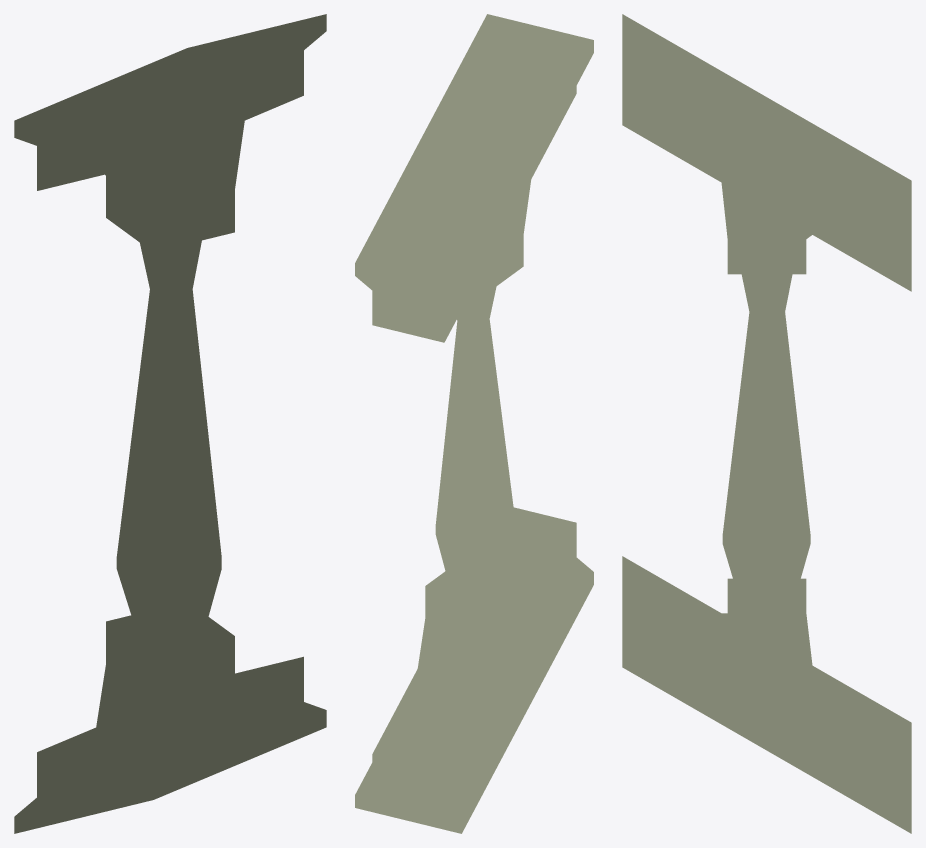
File: railing_slope.dae
3 views of the same model, side by side, from view 1: azimuth 30°, elevation 25°; view 2: azimuth 150°, elevation 25°; view 3: azimuth 270°, elevation 25° (orthographic). The views are drawn at different scales.
Visible parts, largest first — view 1: cube2-0; view 2: cube2-0; view 3: cube2-0.
Boxes of the visible parts, x1=… form: cube2-0: x1=14, y1=14, x2=326, y2=833; cube2-0: x1=355, y1=14, x2=593, y2=833; cube2-0: x1=622, y1=14, x2=911, y2=833.
Size of the model in its own units: 0.1466 by 0.9163 by 0.3148.
